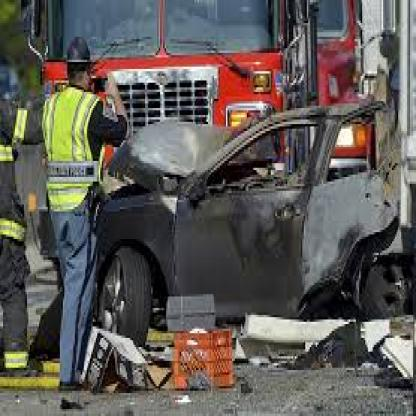accident: (57, 90, 416, 372)
